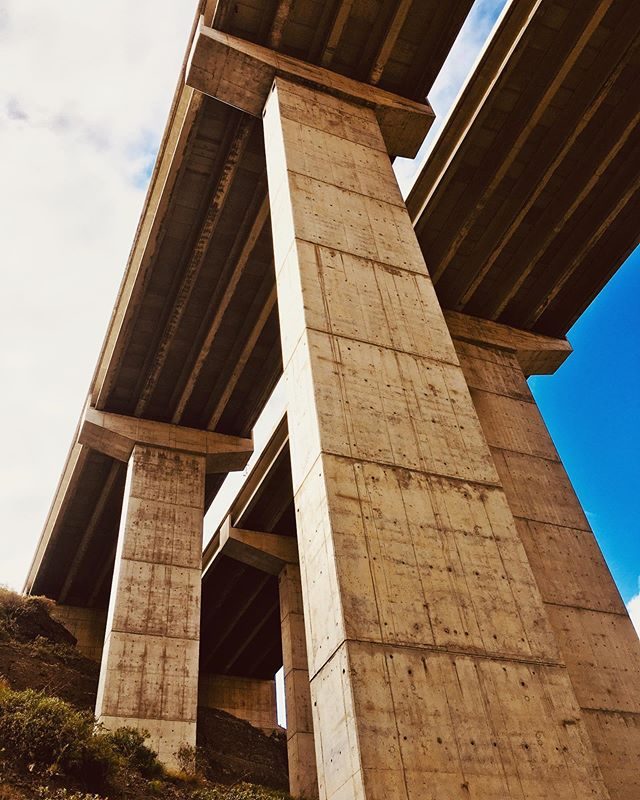bridge: (68, 1, 640, 592)
collumn: (257, 158, 550, 800), (89, 415, 252, 797)
sky: (1, 5, 183, 570), (509, 261, 640, 555)
